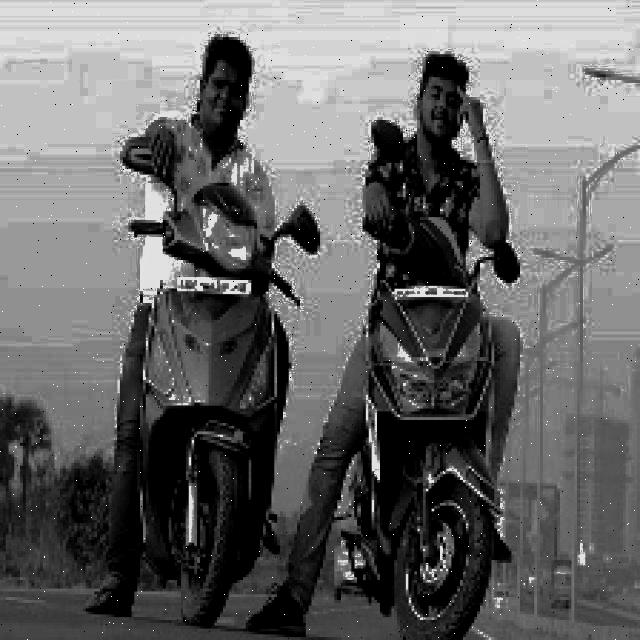Bike: (358, 197, 504, 634), (142, 170, 279, 600)
